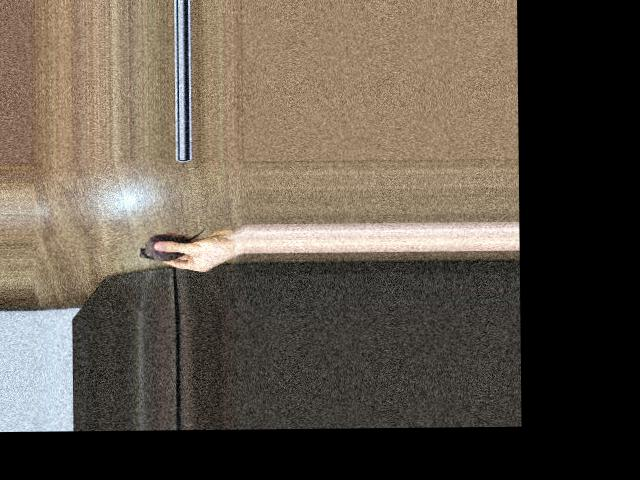beet: (138, 225, 204, 261)
